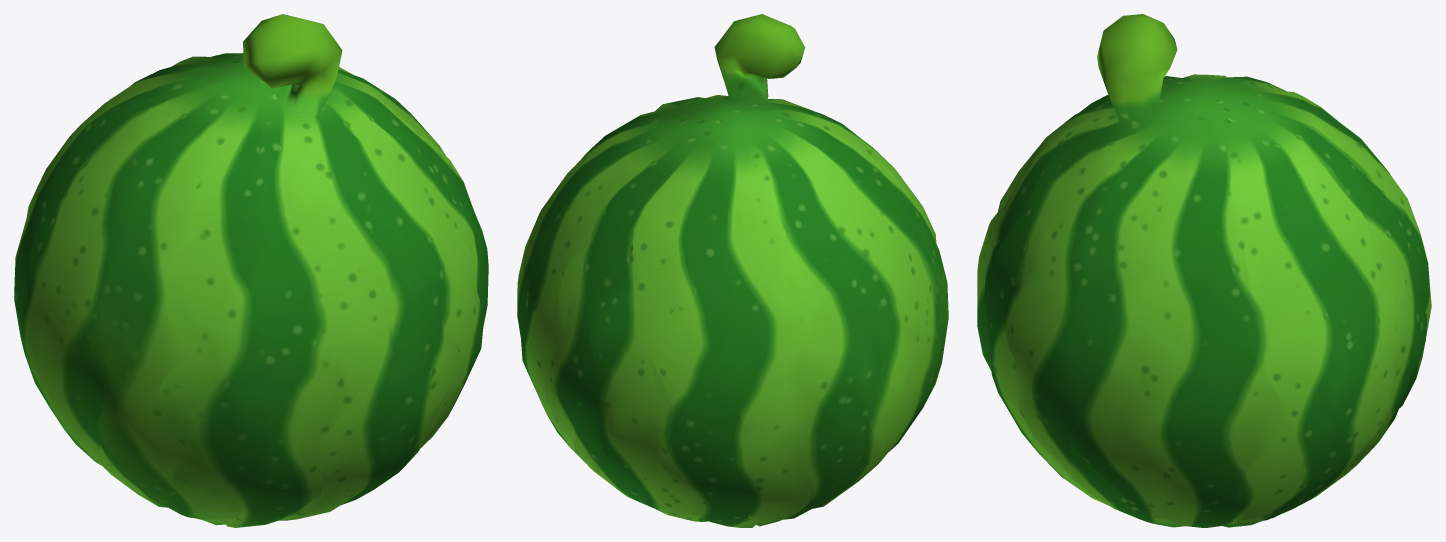
File: melon.glb
3 views of the same model, side by side, from view 1: azimuth 30°, elevation 25°; view 2: azimuth 150°, elevation 25°; view 3: azimuth 270°, elevation 25° (orthographic). The views are drawn at different scales.
Parts seen in each view (by area): view 1: tripo_node_11617865-bb5e-4551-9ad9-8378f6bd35dd; view 2: tripo_node_11617865-bb5e-4551-9ad9-8378f6bd35dd; view 3: tripo_node_11617865-bb5e-4551-9ad9-8378f6bd35dd.
Boxes of the visible parts, <box> form: tripo_node_11617865-bb5e-4551-9ad9-8378f6bd35dd: <box>14,14,488,527</box>; tripo_node_11617865-bb5e-4551-9ad9-8378f6bd35dd: <box>517,14,948,527</box>; tripo_node_11617865-bb5e-4551-9ad9-8378f6bd35dd: <box>977,14,1431,527</box>.
Size of the model in its own units: 0.8363 by 1 by 0.8416.
1 material, 1 textured.
